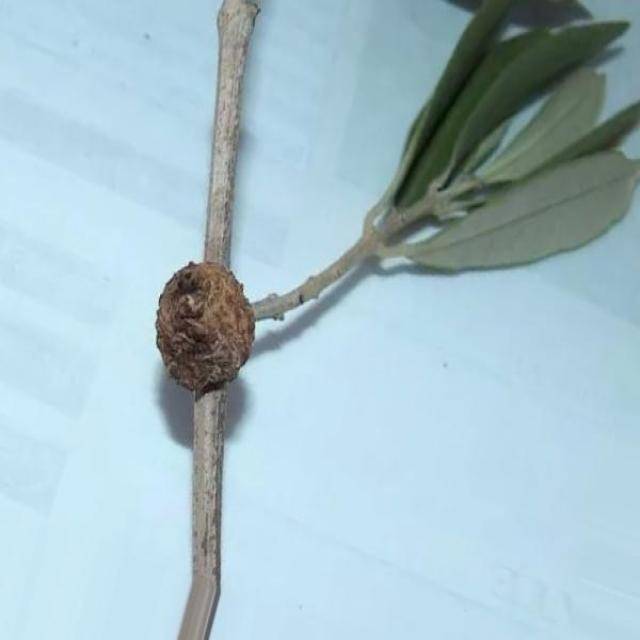Tuberculosis: (156, 260, 256, 400)
